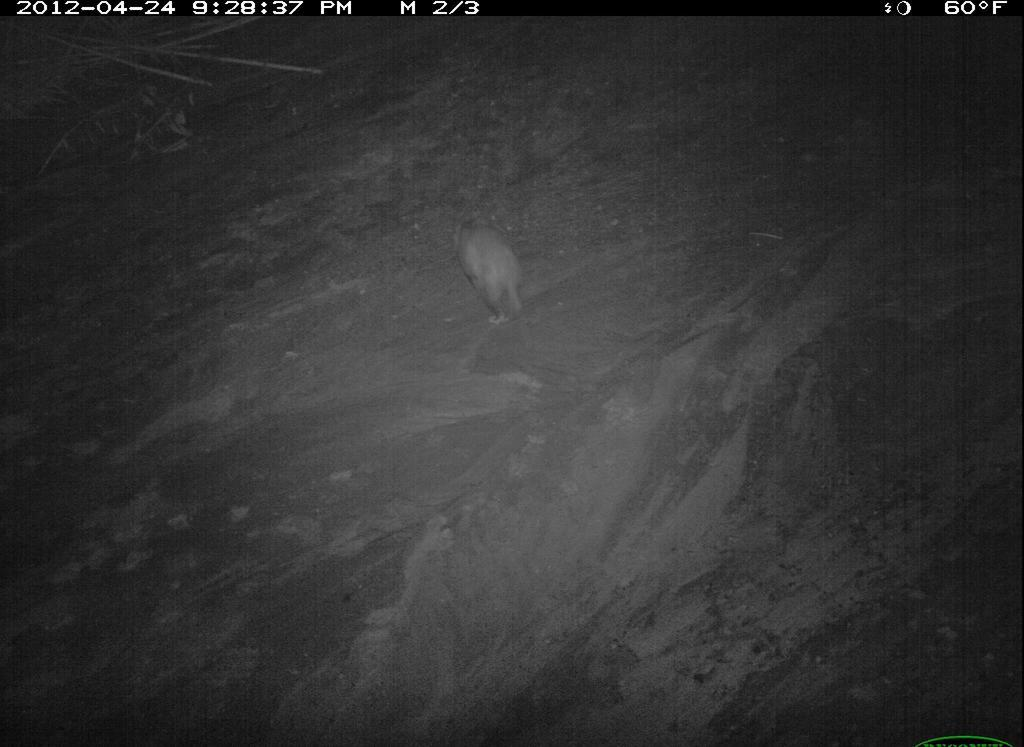opossum: (898, 428, 1024, 721)
